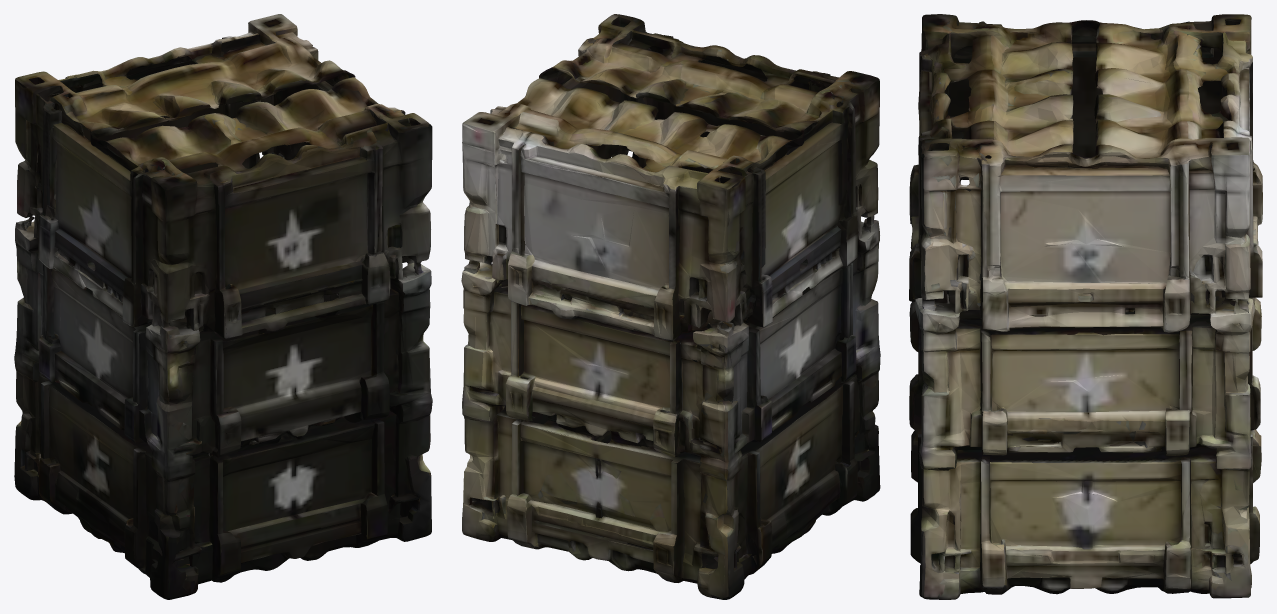
File: prop_hangar_crate.glb
3 renders of one model, left to right at view 1: azimuth 30°, elevation 25°; view 2: azimuth 150°, elevation 25°; view 3: azimuth 270°, elevation 25°, orthographic. The views are drawn at different scales.
Visible parts, largest first — view 1: geometry_0; view 2: geometry_0; view 3: geometry_0.
Part boxes in pixels (x1,y1,x2,y2): geometry_0: (14, 14, 432, 599); geometry_0: (461, 14, 880, 599); geometry_0: (909, 14, 1262, 599).
Bounding box in the file's own units: 0.7021 × 0.9994 × 0.7149.
1 material, 1 textured.
